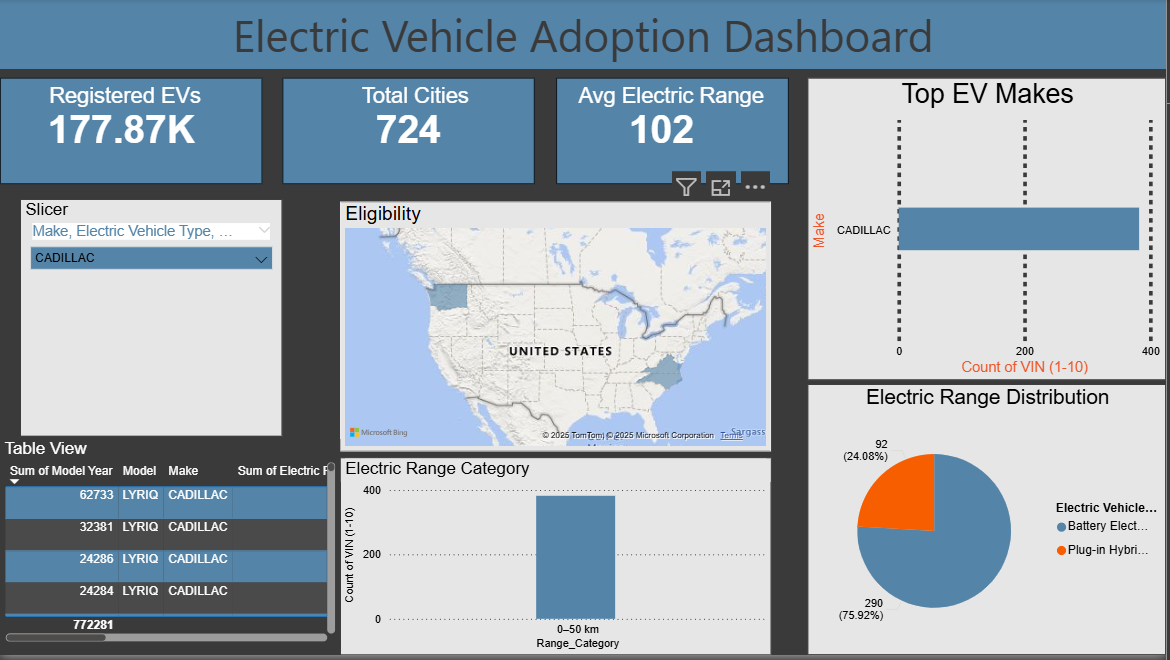

Layout of this report page (visuals, bound fields, positions):
{"tool":"powerbi","page":{"name":"Page 1","canvas":[1280,720],"ordinal":0},"visuals":[{"type":"textbox","box":[0,86.4,288.2,116.6],"z":0},{"type":"textbox","box":[310.1,86.4,277.2,116.6],"z":1000},{"type":"shape","box":[0,0,1280.3,76.8],"z":2000},{"type":"textbox","box":[610.6,86.4,255.2,116.6],"z":3000},{"type":"clusteredBarChart","title":"Top EV Makes","fields":{"Category":["Electric_Vehicle_Population_Data.Make"],"Y":["CountNonNull(Electric_Vehicle_Population_Data.VIN (1-10))"]},"box":[886.5,86.4,393.8,332.1],"z":4000},{"type":"pieChart","title":"Electric Range Distribution","fields":{"Category":["Electric_Vehicle_Population_Data.Electric Vehicle Type"],"Y":["CountNonNull(Electric_Vehicle_Population_Data.VIN (1-10))"]},"box":[886.5,422.6,393.8,297.8],"z":5000},{"type":"filledMap","title":"Eligibility","fields":{"Category":["Electric_Vehicle_Population_Data.State"]},"box":[373.2,222.3,473.4,274.4],"z":6000},{"type":"columnChart","title":" Electric Range Category","fields":{"Category":["Electric_Vehicle_Population_Data.Range_Category"],"Y":["CountNonNull(Electric_Vehicle_Population_Data.VIN (1-10))"]},"box":[373.2,503.6,473.4,216.8],"z":7000},{"type":"tableEx","title":"Table View","fields":{"Values":["Sum(Electric_Vehicle_Population_Data.Model Year)","Electric_Vehicle_Population_Data.Model","Electric_Vehicle_Population_Data.Make","Sum(Electric_Vehicle_Population_Data.Electric Range)","Electric_Vehicle_Population_Data.City","Electric_Vehicle_Population_Data.State","Electric_Vehicle_Population_Data.Electric Vehicle Type","Electric_Vehicle_Population_Data.Clean Alternative Fuel Vehicle (CAFV) Eligibility"]},"box":[0,483,373.2,227.8],"z":8000},{"type":"slicer","title":"Slicer","fields":{"Values":["Electric_Vehicle_Population_Data.Make","Electric_Vehicle_Population_Data.Electric Vehicle Type","Electric_Vehicle_Population_Data.Model Year","Electric_Vehicle_Population_Data.Clean Alternative Fuel Vehicle (CAFV) Eligibility"]},"box":[22,219.6,288.2,260.7],"z":9000}]}

Visuals, with their boxes in screenshot pixels (x1, y1, x2, y2), scaled from the page's 1280x720 canvas onto the 1170x660 screenshot:
textbox: left=0, top=79, right=263, bottom=186
textbox: left=283, top=79, right=537, bottom=186
shape: left=0, top=0, right=1169, bottom=70
textbox: left=558, top=79, right=791, bottom=186
"Top EV Makes" clusteredBarChart: left=810, top=79, right=1169, bottom=384
"Electric Range Distribution" pieChart: left=810, top=387, right=1169, bottom=659
"Eligibility" filledMap: left=341, top=204, right=774, bottom=455
" Electric Range Category" columnChart: left=341, top=462, right=774, bottom=659
"Table View" tableEx: left=0, top=443, right=341, bottom=652
"Slicer" slicer: left=20, top=201, right=284, bottom=440
